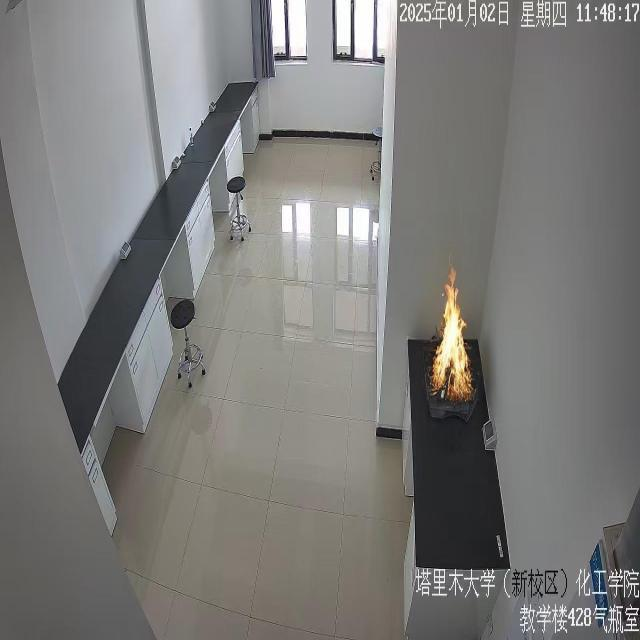smoke: (428, 266, 476, 402)
